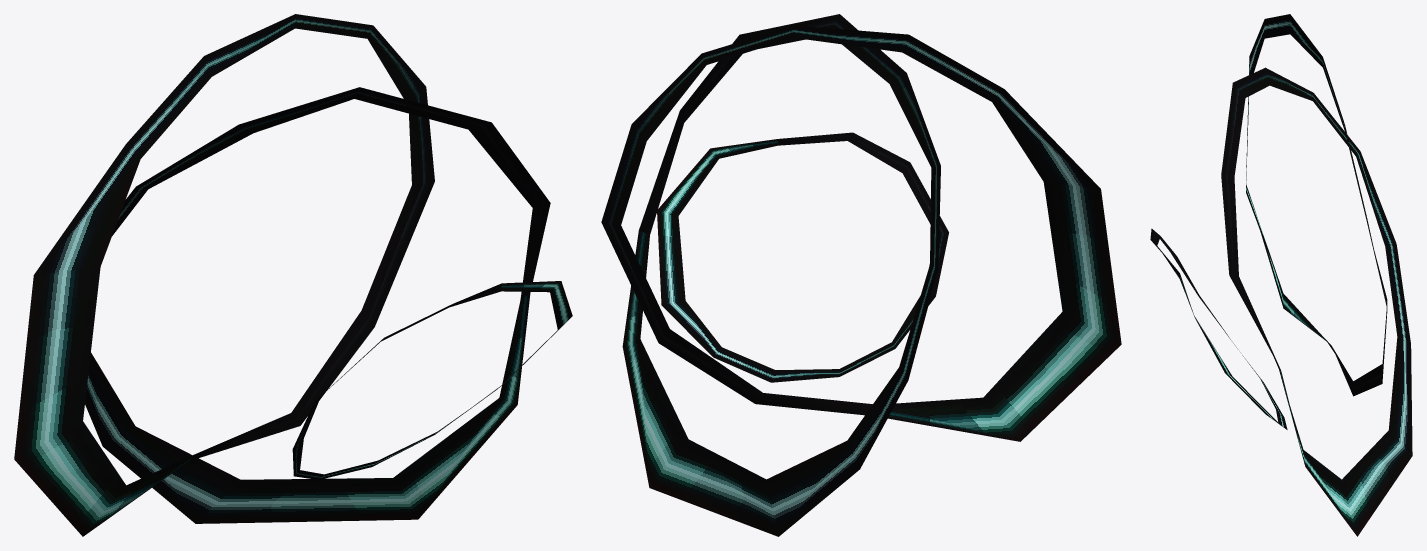
The picture shows the model from 3 angles, left to right: view 1: azimuth 30°, elevation 25°; view 2: azimuth 150°, elevation 25°; view 3: azimuth 270°, elevation 25°; orthographic projection. The views are drawn at different scales.
Parts seen in each view (by area): view 1: model_Object03; view 2: model_Object03; view 3: model_Object03.
Part boxes in pixels (x1,y1,x2,y2): model_Object03: [14, 14, 572, 536]; model_Object03: [601, 14, 1121, 536]; model_Object03: [1150, 14, 1412, 536].
Size of the model in its own units: 2.1 by 2.04 by 1.14.
1 material, 1 textured.
